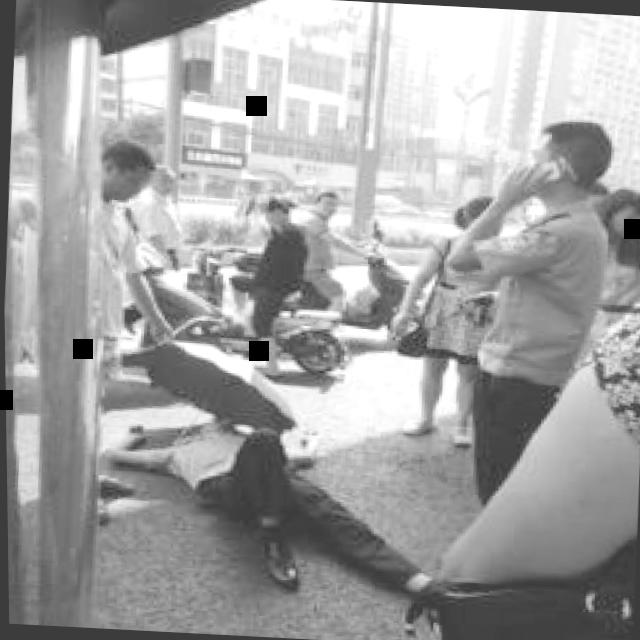Fall-Detected: (76, 377, 467, 610)
